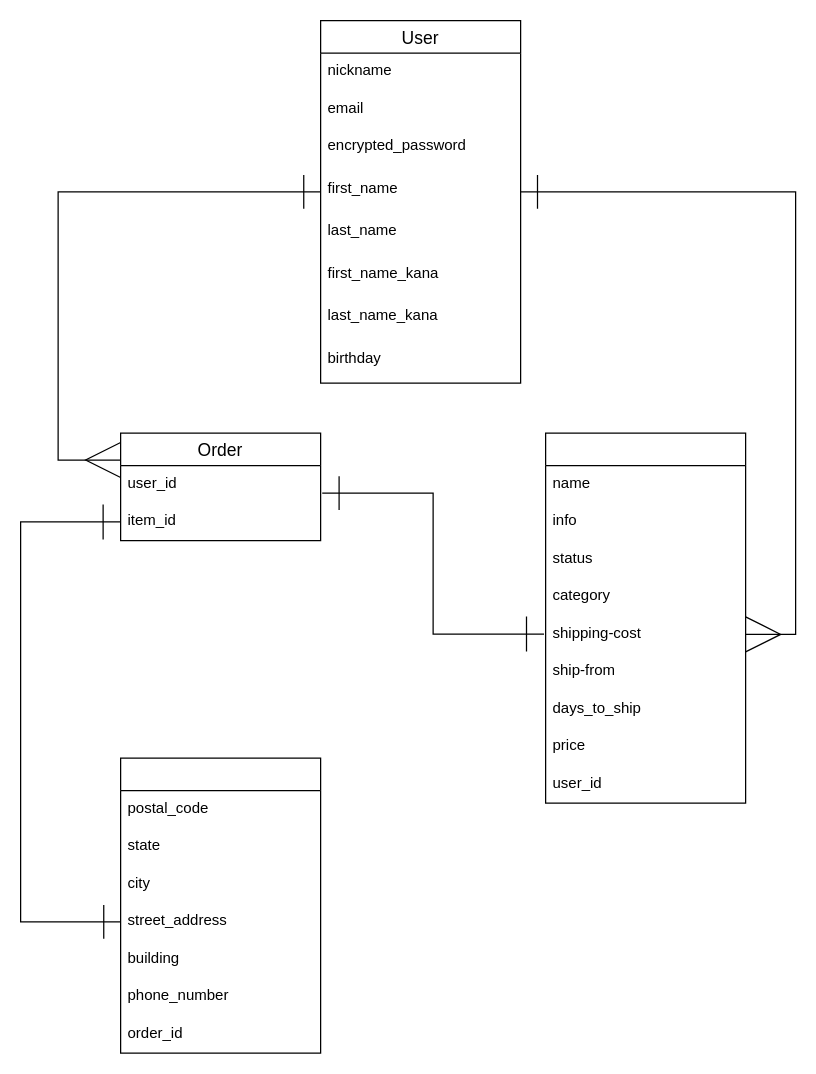
This 816x1074 diagram has some shape labels left out. The shapes that lost their labels are listed below. From the top down, each one's box as (x1, y1, x2, y2) in pixels, then its label:
(544, 432, 746, 803): Item
(119, 757, 321, 1053): Adress
